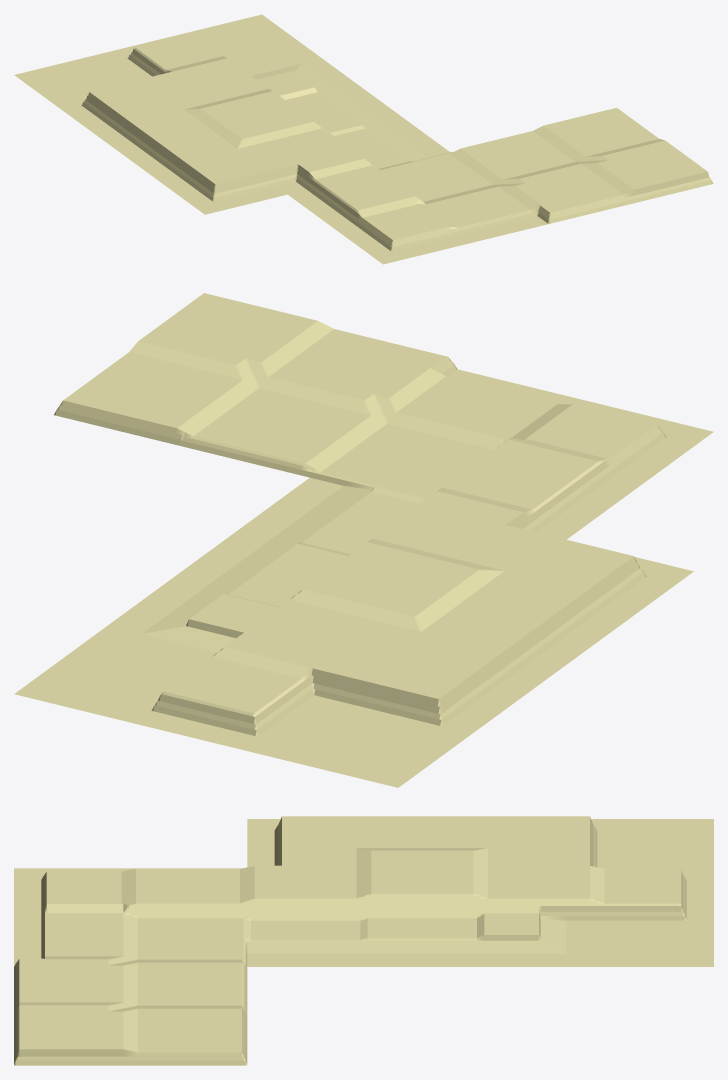
File: cat's_cape_level_chunks.glb
The picture shows the model from 3 angles, top to bottom: view 1: azimuth 30°, elevation 25°; view 2: azimuth 150°, elevation 25°; view 3: azimuth 270°, elevation 25°; orthographic projection. The views are drawn at different scales.
Visible parts, largest first — view 1: Chunk 1.007, Chunk 1.012, Chunk 1.014, Chunk 1.008, Chunk 1.017, Chunk 1.011, Chunk 1.001, Chunk 1.006, Chunk 1.013, Chunk 1.015, Chunk 1.000, Chunk 1.002 (+8 smaller); view 2: Chunk 1.006, Chunk 1.009, Chunk 1.008, Chunk 1.015, Chunk 1.016, Chunk 1.011, Chunk 1.002, Chunk 1.014, Chunk 1.018, Chunk 1.010, Chunk 1.017, Chunk 1.000 (+8 smaller); view 3: Chunk 1.003, Chunk 1.004, Chunk 1.005, Chunk 1.017, Chunk 1.019, Chunk 1.010, Chunk 1.016, Chunk 1.000, Chunk 1.002, Chunk 1.018, Chunk 1.001, Chunk 1.013 (+8 smaller).
Part boxes in pixels (bbox=[...]): Chunk 1.007: bbox=[157, 144, 287, 214]; Chunk 1.012: bbox=[335, 199, 465, 264]; Chunk 1.014: bbox=[501, 161, 631, 223]; Chunk 1.008: bbox=[110, 109, 239, 179]; Chunk 1.017: bbox=[584, 139, 713, 203]; Chunk 1.011: bbox=[288, 162, 417, 229]; Chunk 1.001: bbox=[240, 125, 368, 194]; Chunk 1.006: bbox=[62, 77, 191, 144]; Chunk 1.013: bbox=[418, 184, 548, 244]; Chunk 1.015: bbox=[455, 128, 582, 184]; Chunk 1.000: bbox=[192, 90, 318, 143]; Chunk 1.002: bbox=[148, 57, 270, 108]; Chunk 1.006: bbox=[344, 624, 545, 733]; Chunk 1.009: bbox=[142, 652, 343, 756]; Chunk 1.008: bbox=[418, 570, 619, 679]; Chunk 1.015: bbox=[182, 381, 383, 477]; Chunk 1.016: bbox=[54, 347, 255, 446]; Chunk 1.011: bbox=[440, 438, 639, 539]; Chunk 1.002: bbox=[218, 594, 417, 702]; Chunk 1.014: bbox=[256, 325, 457, 415]; Chunk 1.018: bbox=[270, 702, 471, 787]; Chunk 1.010: bbox=[310, 416, 510, 500]; Chunk 1.017: bbox=[134, 293, 325, 380]; Chunk 1.000: bbox=[296, 540, 491, 624]; Chunk 1.003: bbox=[480, 903, 597, 966]; Chunk 1.004: bbox=[247, 903, 363, 966]; Chunk 1.005: bbox=[364, 903, 480, 966]; Chunk 1.017: bbox=[14, 1004, 130, 1065]; Chunk 1.019: bbox=[597, 903, 713, 966]; Chunk 1.010: bbox=[130, 903, 247, 966]; Chunk 1.016: bbox=[130, 1007, 247, 1065]; Chunk 1.000: bbox=[364, 849, 480, 903]; Chunk 1.002: bbox=[480, 849, 597, 903]; Chunk 1.018: bbox=[597, 819, 713, 868]; Chunk 1.001: bbox=[247, 849, 363, 903]; Chunk 1.013: bbox=[14, 905, 130, 966].
Bounding box in the file's own units: 320 × 12.5 × 384.
